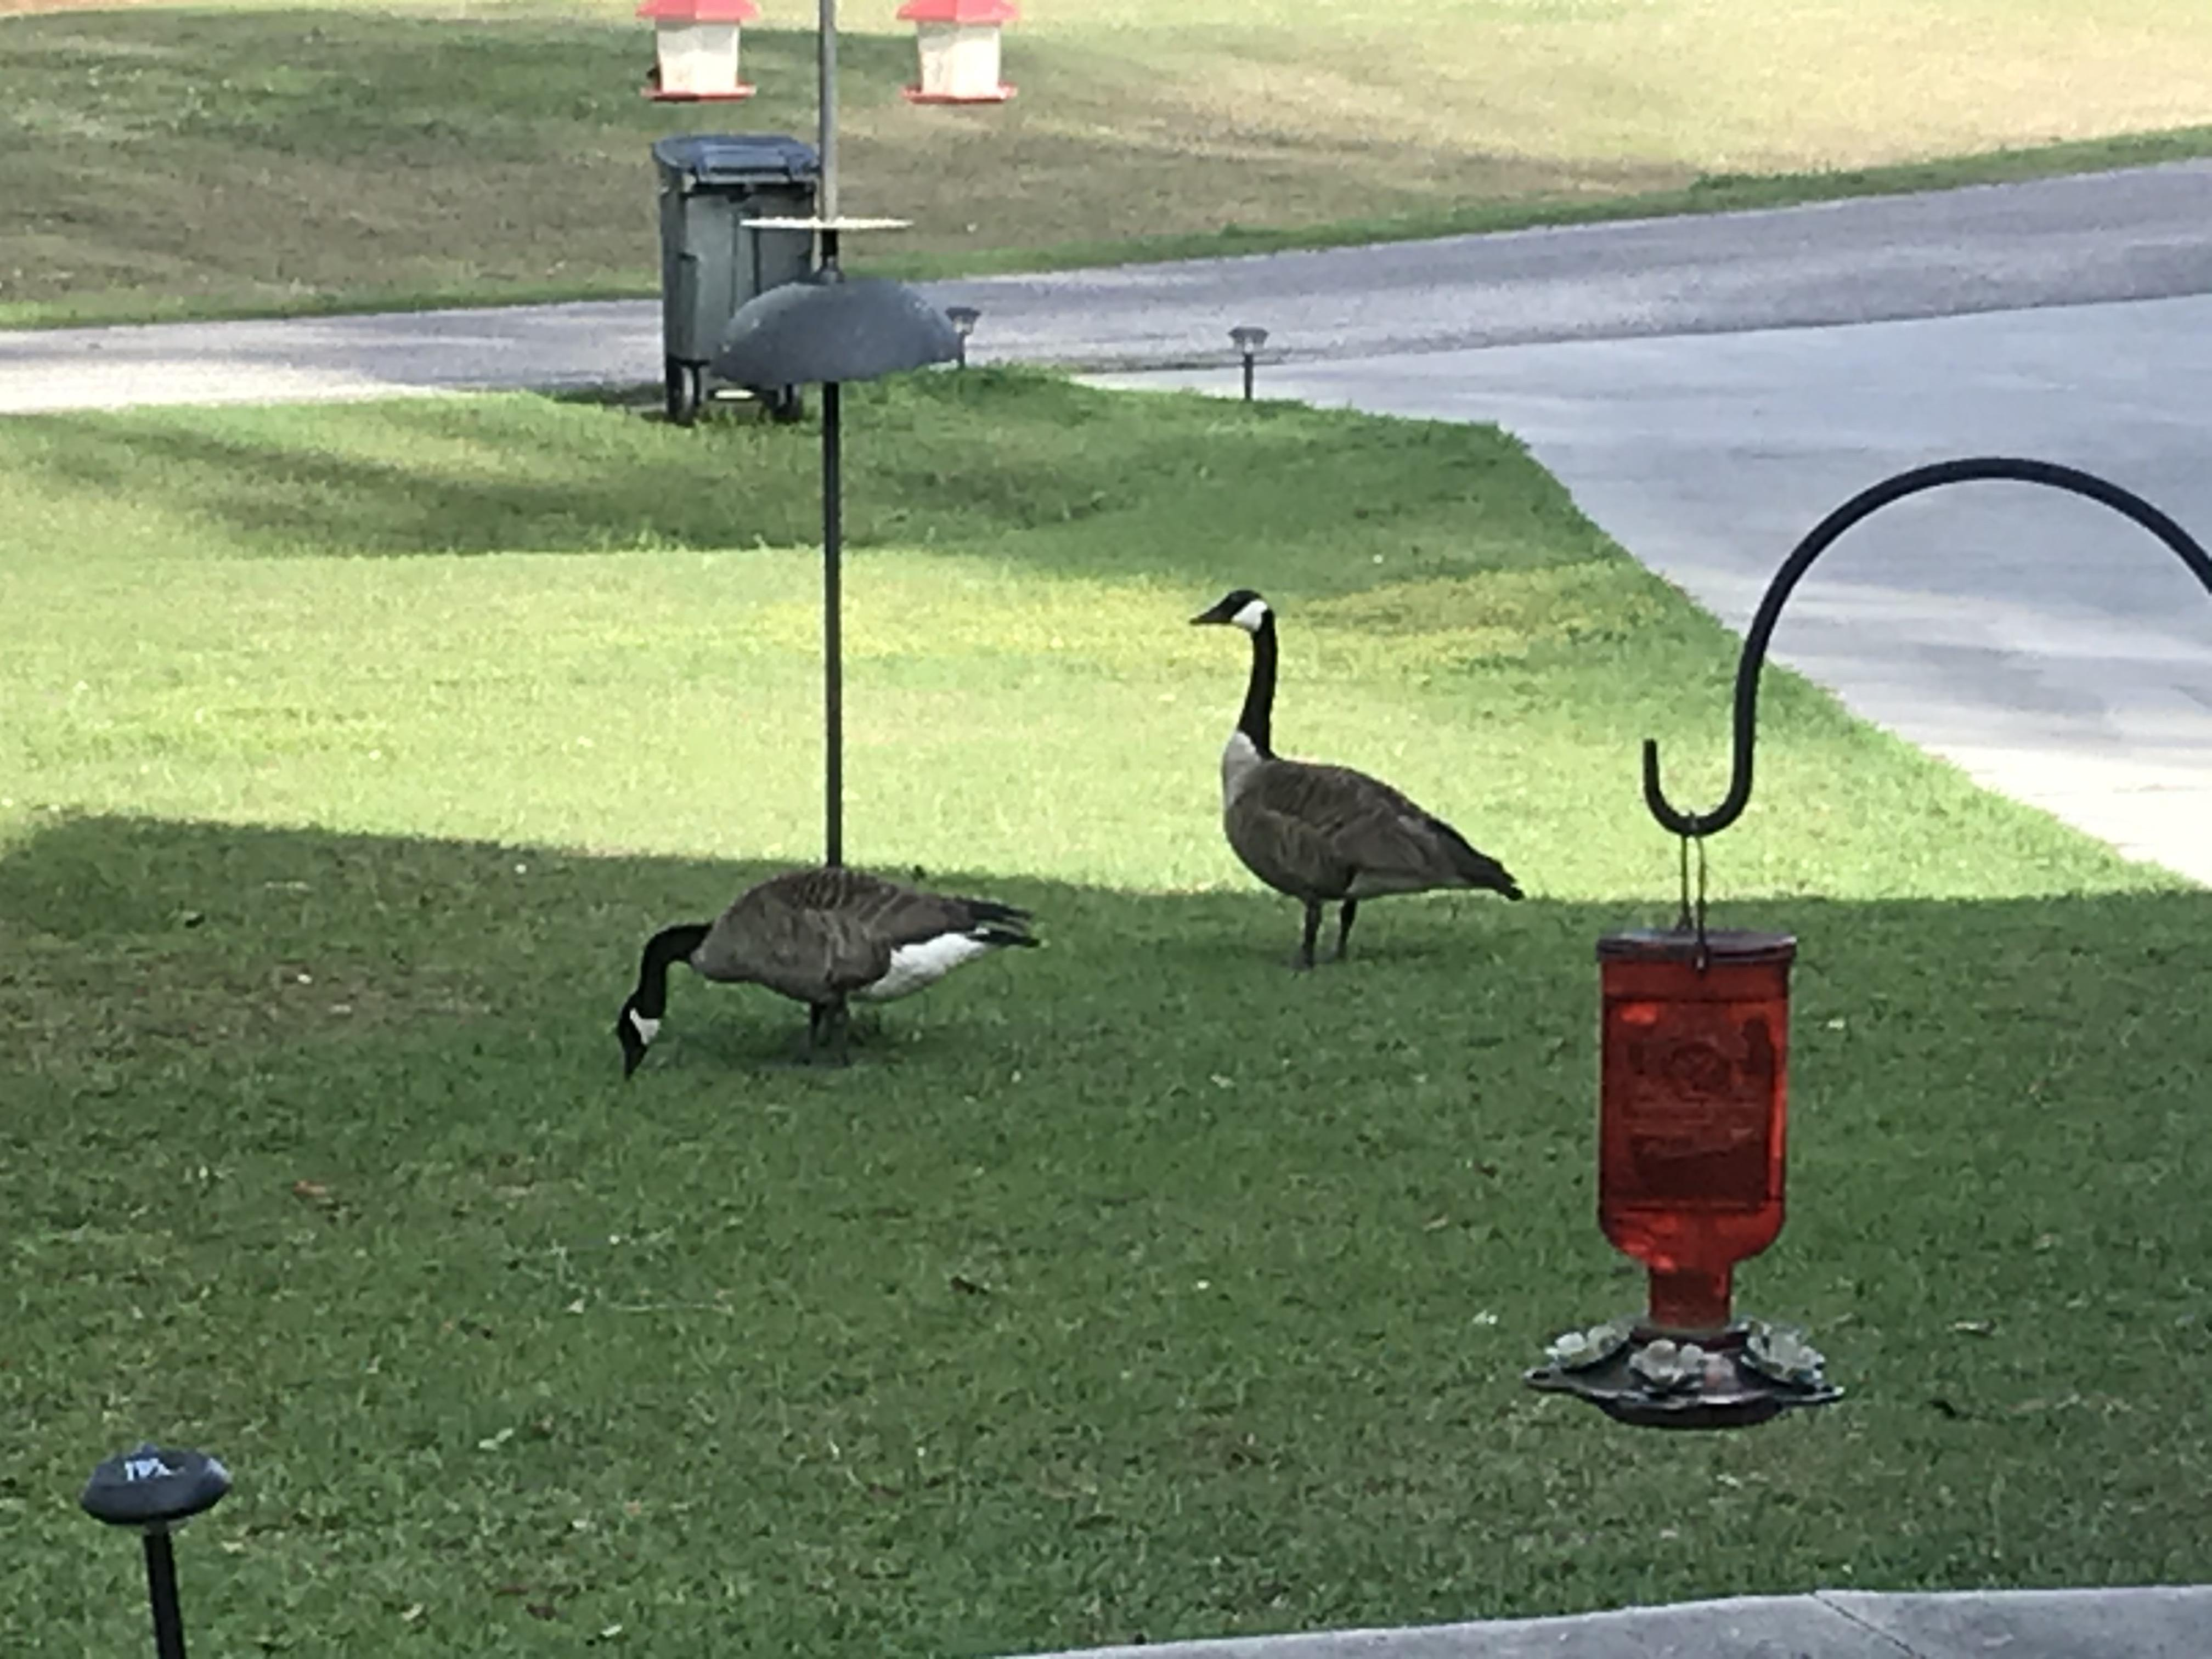goose: (1177, 587, 1536, 990), (611, 856, 1047, 1096)
